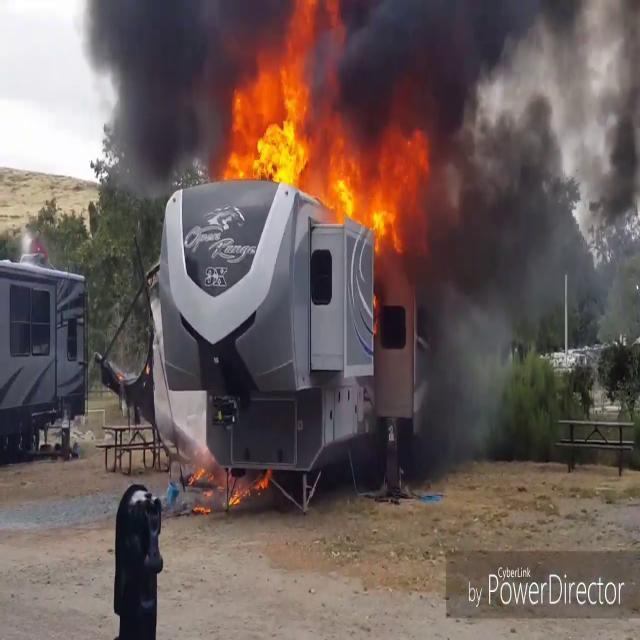Fire: (220, 13, 332, 185), (320, 124, 430, 247), (227, 463, 273, 509)
Smoke: (373, 1, 640, 338), (62, 1, 254, 192)
